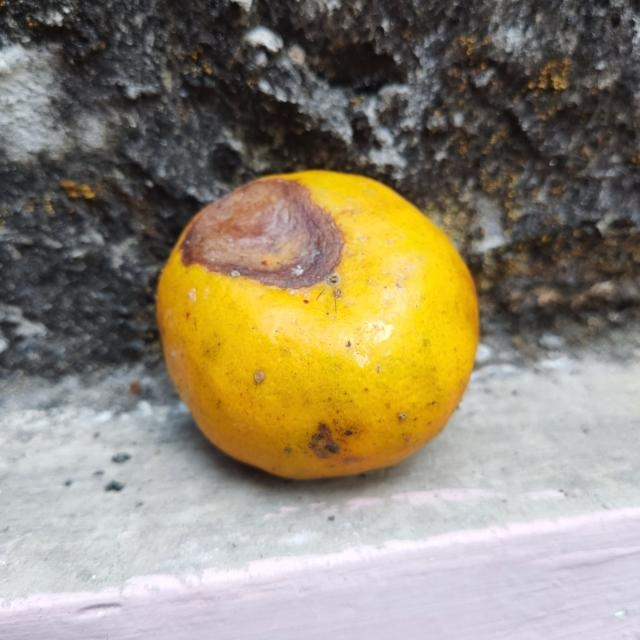agrume: (157, 167, 483, 481)
